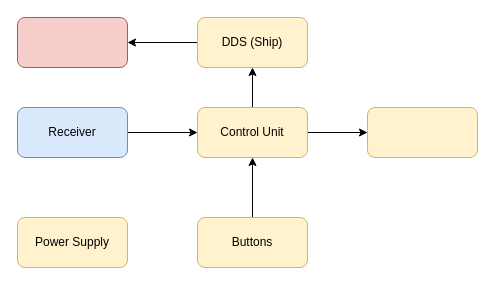
Some shapes in this 495 by 285 pixel diagram are drawn without their labels. Here are the shapes that lost their labels. From the top down, the centre of each, then its label:
At pixel 72 42: "Transducer".
At pixel 422 132: "Display".
